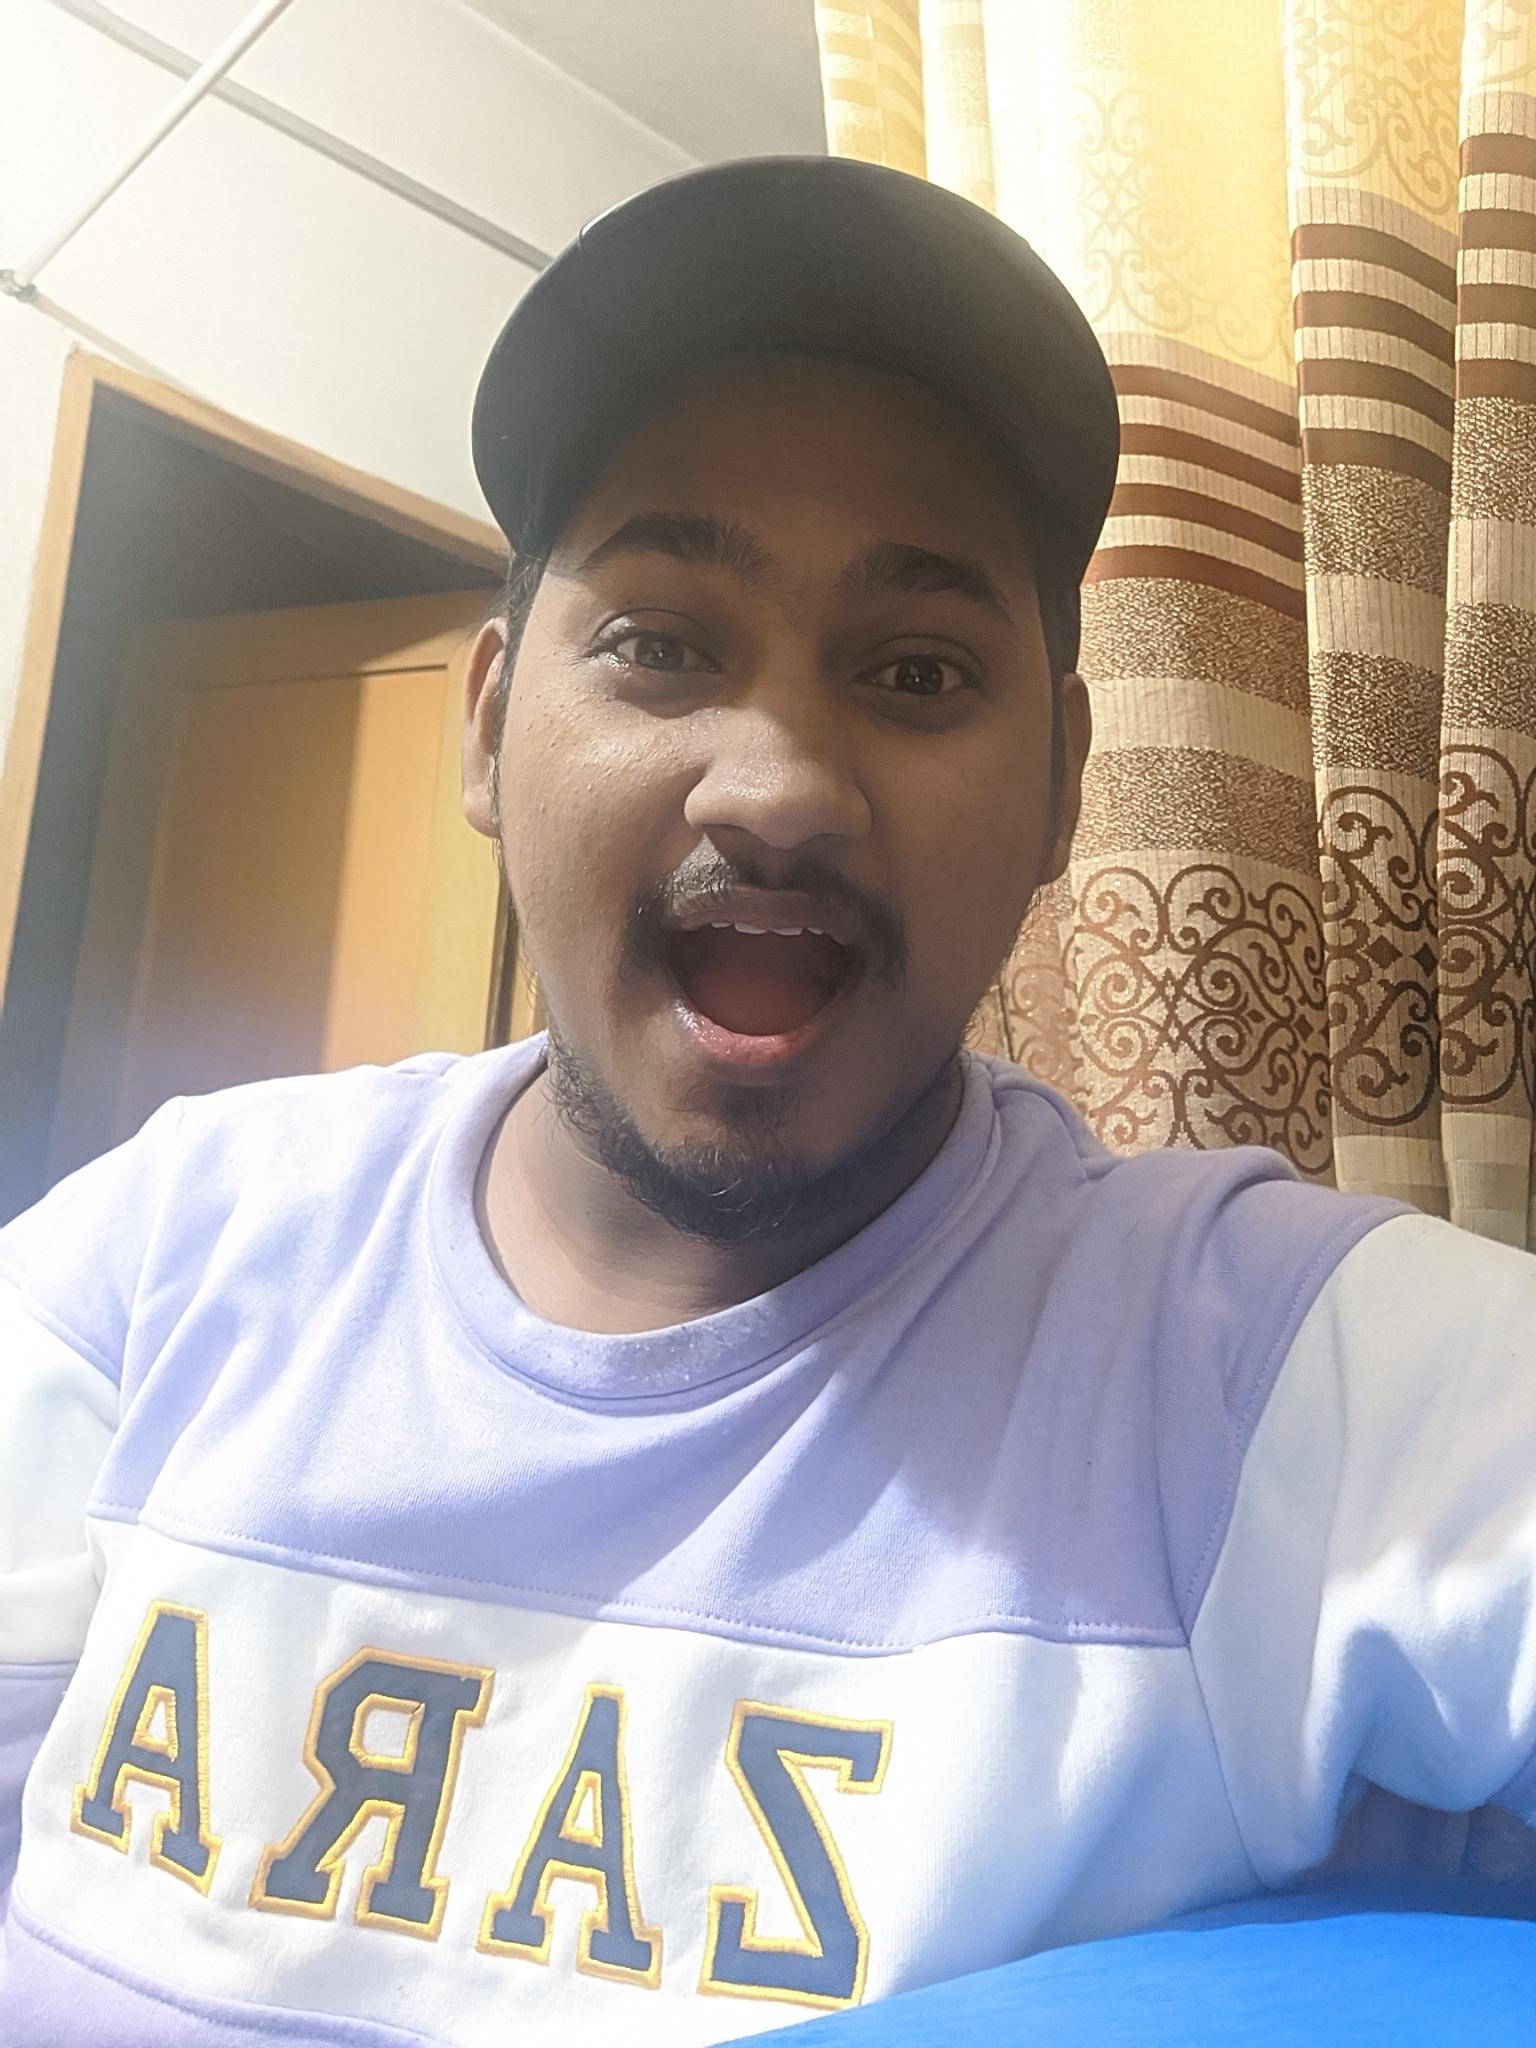Surprise: (490, 447, 1055, 1226)
